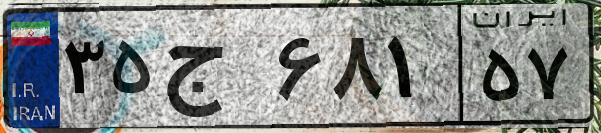1: (385, 28, 445, 110)
3: (57, 26, 110, 100)
5: (475, 38, 525, 113), (110, 28, 158, 98)
6: (270, 28, 330, 110)
7: (525, 38, 570, 115)
8: (330, 28, 385, 110)
ج: (158, 20, 270, 120)
